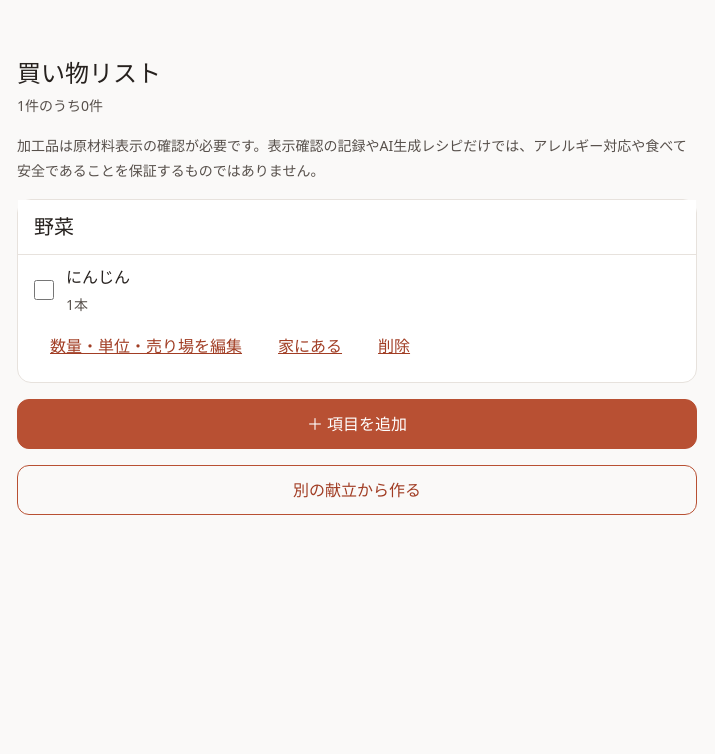
Test: ShoppingListPage mutations › reuses the same idempotency key when add_manual is retried after a lost response (SHOP13)
Click the button "＋ 項目を追加" at (357, 424), box [17,399,697,449]
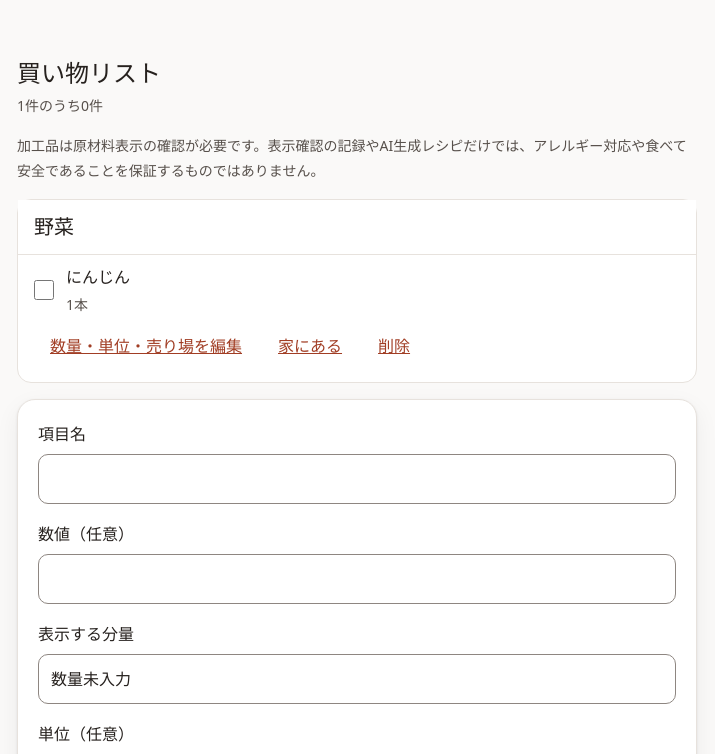
Type "とうふ" into the field labelled "項目名" at (357, 479), box [38,454,676,504]
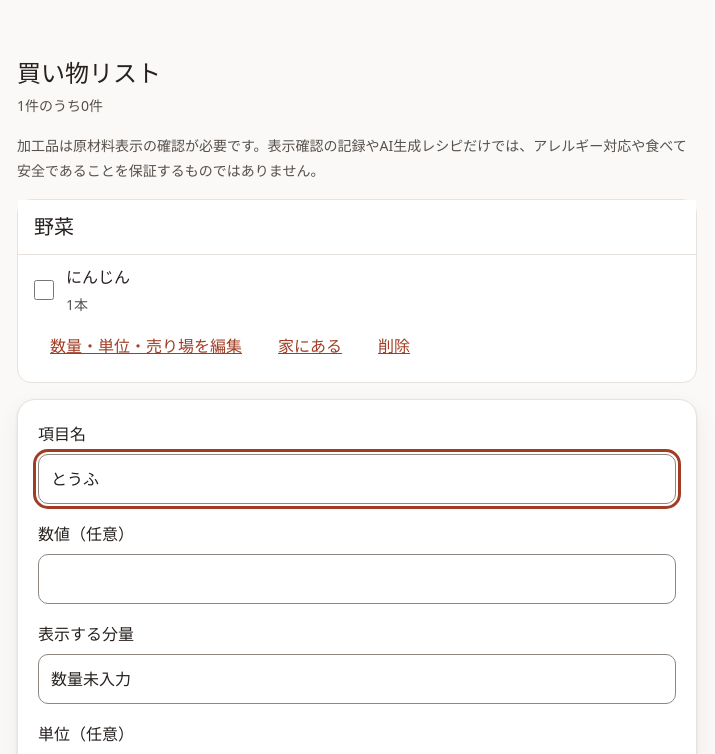
Replace the text in the field named "分量表記" with "1丁" at (357, 679), box [38,654,676,704]
(page scrolled)
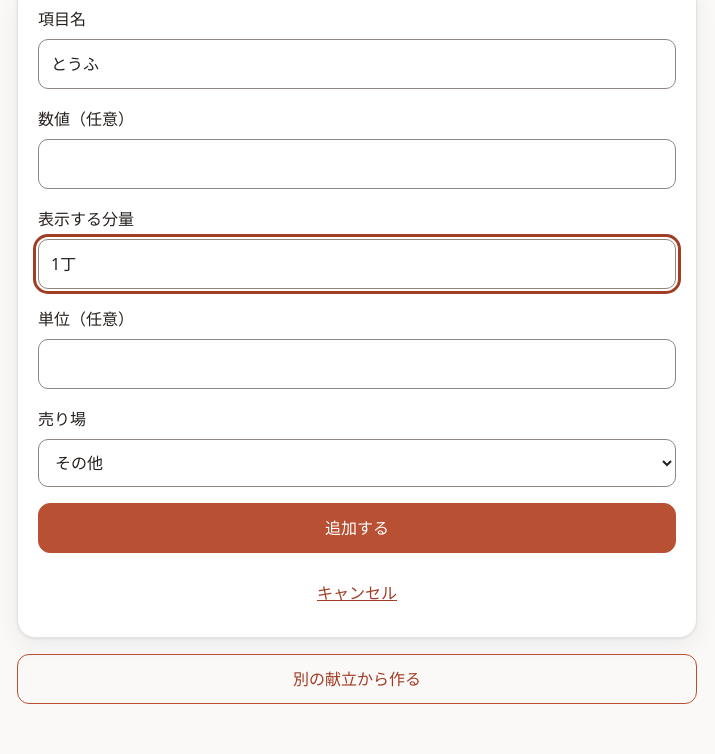
Click the button "追加する" at (357, 528), box [38,503,676,553]
(page scrolled)
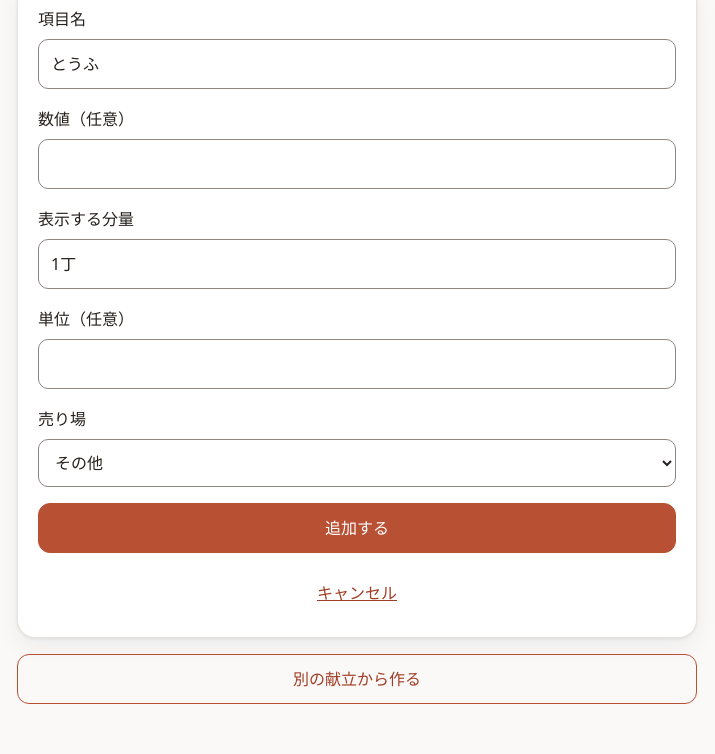
Click the button "追加する" at (357, 528), box [38,503,676,553]
(page scrolled)
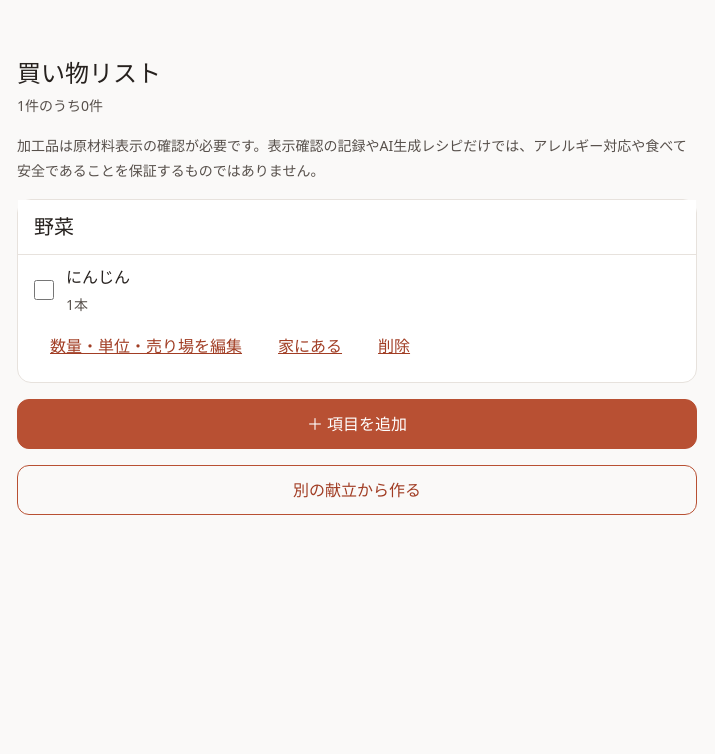
Now the label labelled "項目名" is gone
